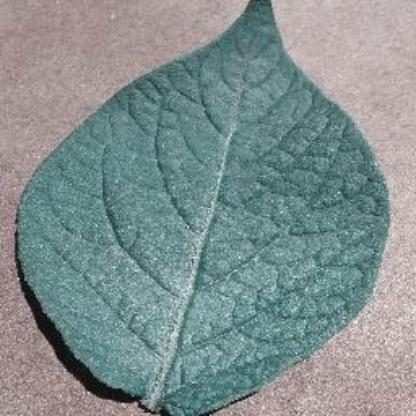Healthy-plant: (18, 0, 392, 414)
